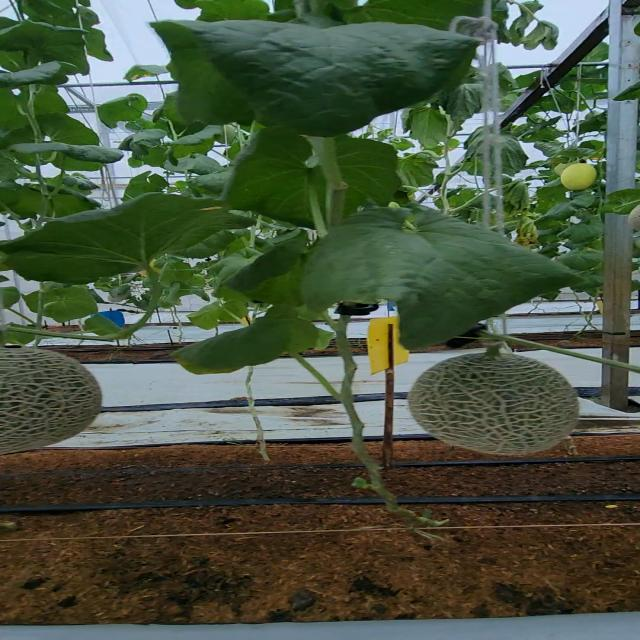Front-melon: (410, 357, 583, 458), (0, 346, 107, 452)
Rear-melon: (565, 166, 596, 188)
